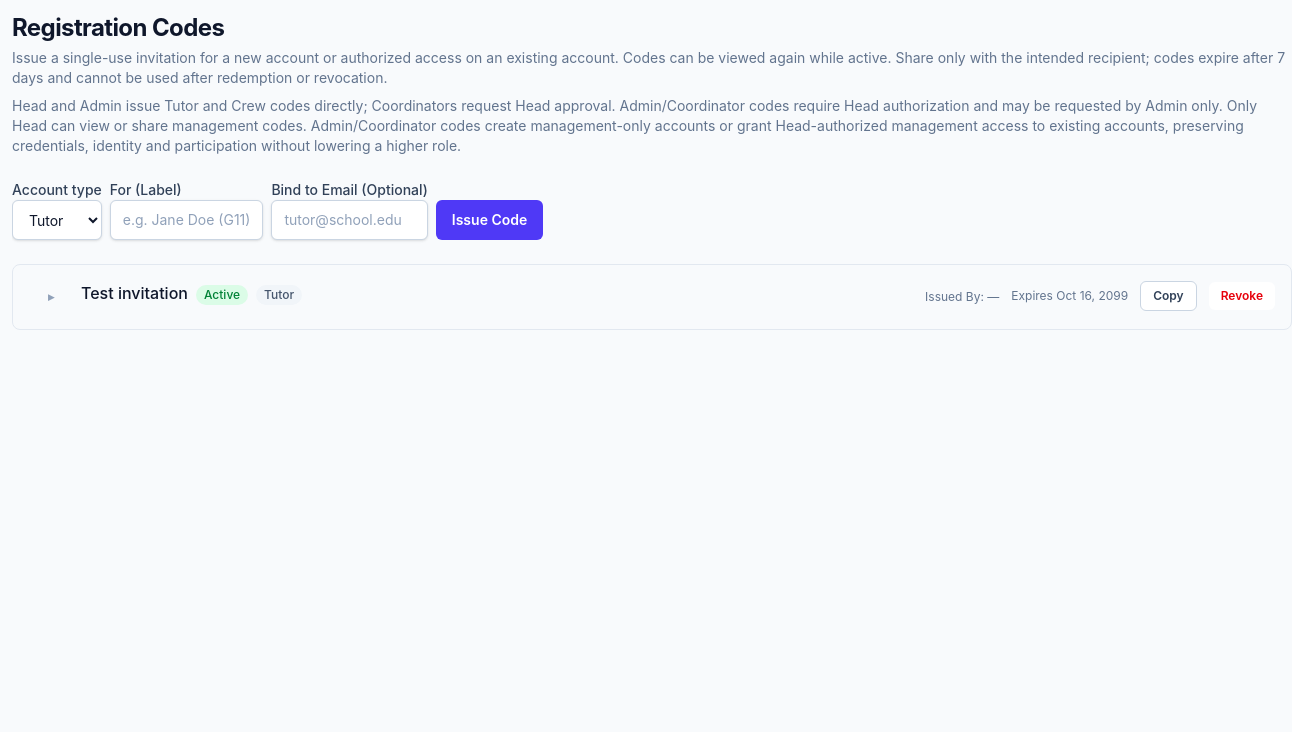
Scenario: lets Admin issue and share a TUTOR code directly
Note: Switching from a management kind must recalculate the action immediately.
Select "Admin" in the dropdown: (57, 220) [12, 200, 102, 240]
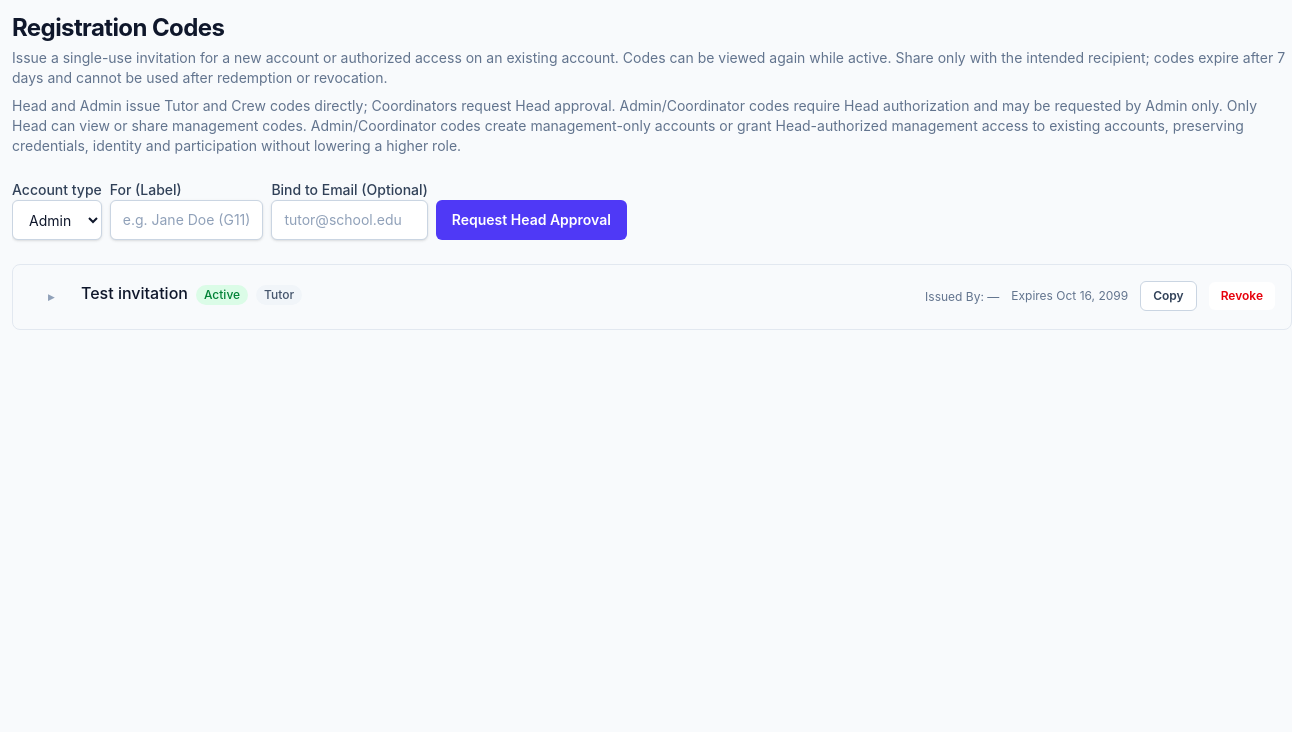
Expected: the button "Request Head Approval" is shown, [436, 200, 627, 240]
Select "Tutor" in the dropdown: (57, 220) [12, 200, 102, 240]
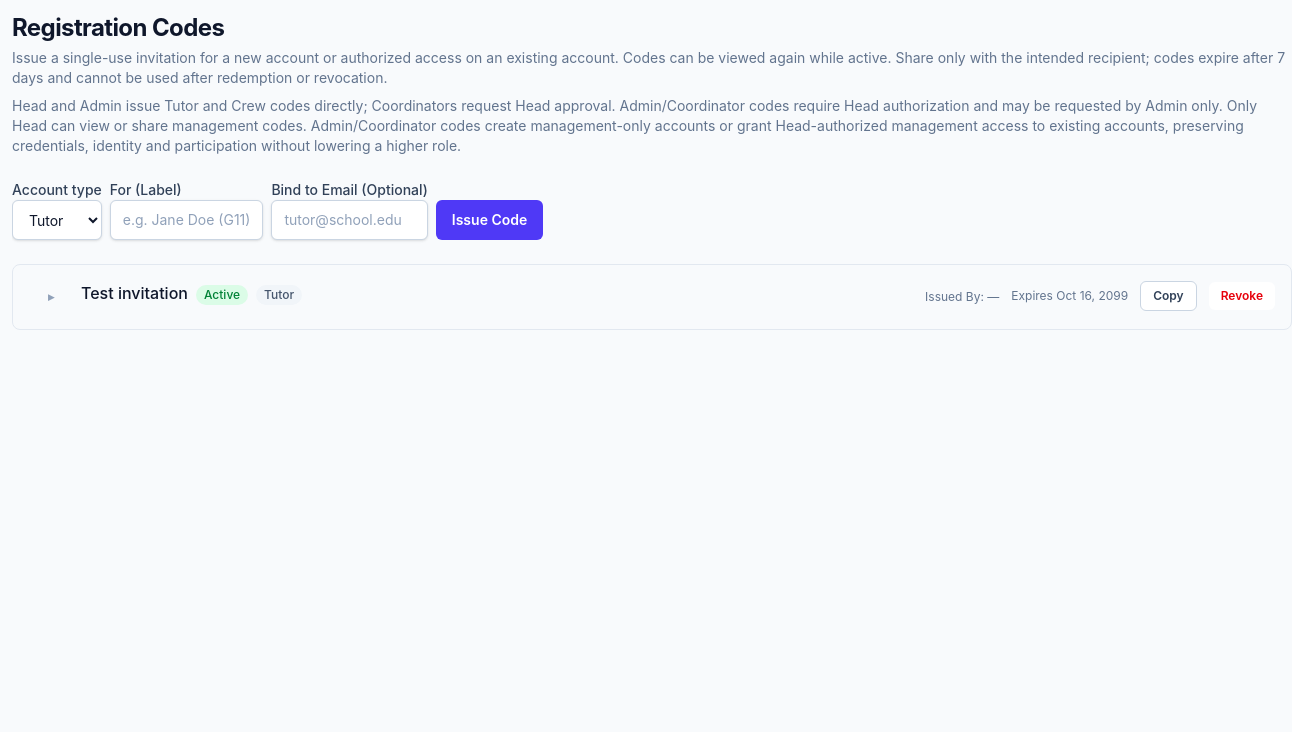
Click the button "Issue Code": (490, 220) [436, 200, 543, 240]
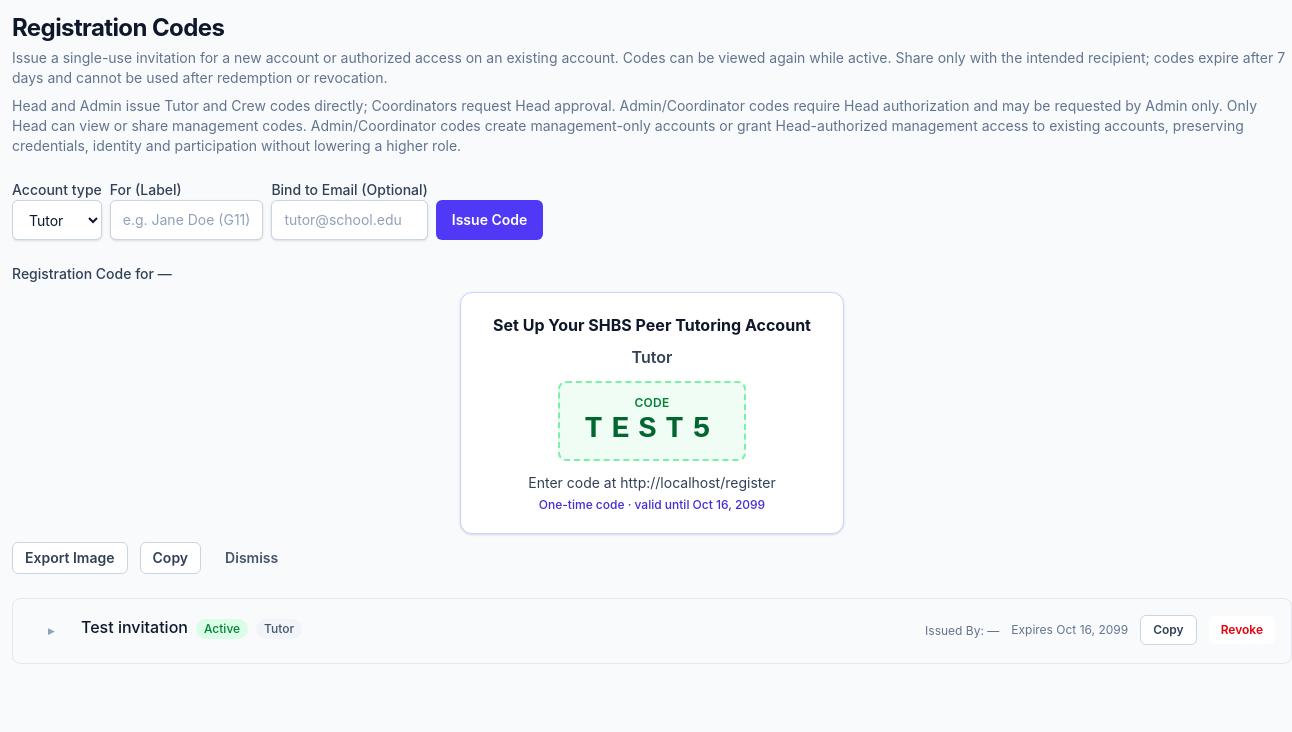
Expected: the button "Export Image" is shown, [12, 542, 128, 574]
